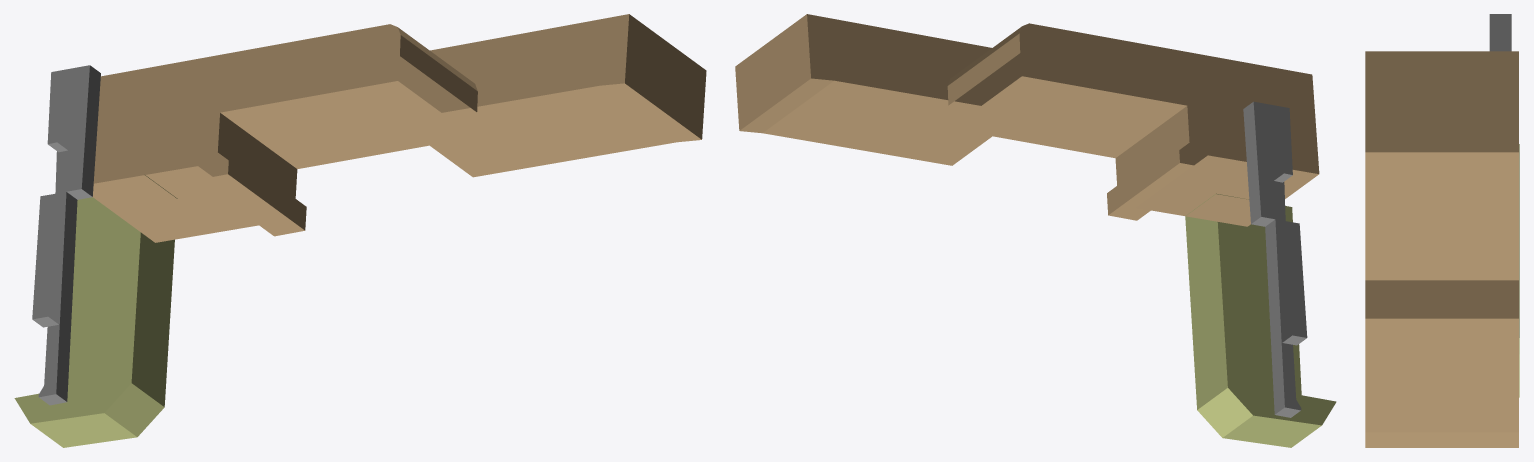
3 views of the same model, side by side, from view 1: azimuth 30°, elevation 25°; view 2: azimuth 150°, elevation 25°; view 3: azimuth 270°, elevation 25° (orthographic). The views are drawn at different scales.
Visible parts, largest first — view 1: 0_3_2_0_2_1_3; view 2: 0_3_2_0_2_1_3; view 3: 0_3_2_0_2_1_3.
Boxes of the visible parts, x1,y1,x2,y2 form: 0_3_2_0_2_1_3: [14, 14, 706, 447]; 0_3_2_0_2_1_3: [735, 14, 1336, 447]; 0_3_2_0_2_1_3: [1365, 14, 1519, 447].
Size of the model in its own units: 96.4 by 53.66 by 21.1.
